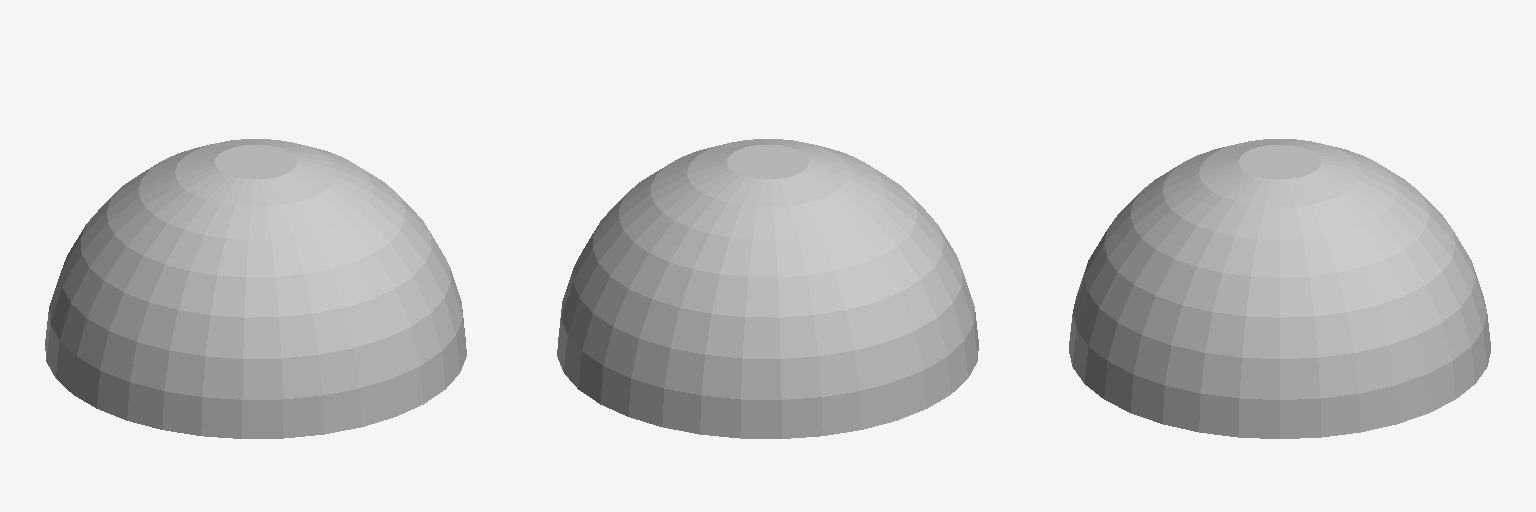
File: sky.obj
3 renders of one model, left to right at view 1: azimuth 30°, elevation 25°; view 2: azimuth 150°, elevation 25°; view 3: azimuth 270°, elevation 25°, orthographic.
Visible parts, largest first — view 1: Sphere; view 2: Sphere; view 3: Sphere.
Part boxes in pixels (bbox=[...]): Sphere: bbox=[45, 139, 466, 438]; Sphere: bbox=[557, 139, 978, 438]; Sphere: bbox=[1069, 139, 1490, 438].
Size of the model in its own units: 24 by 11.77 by 24.